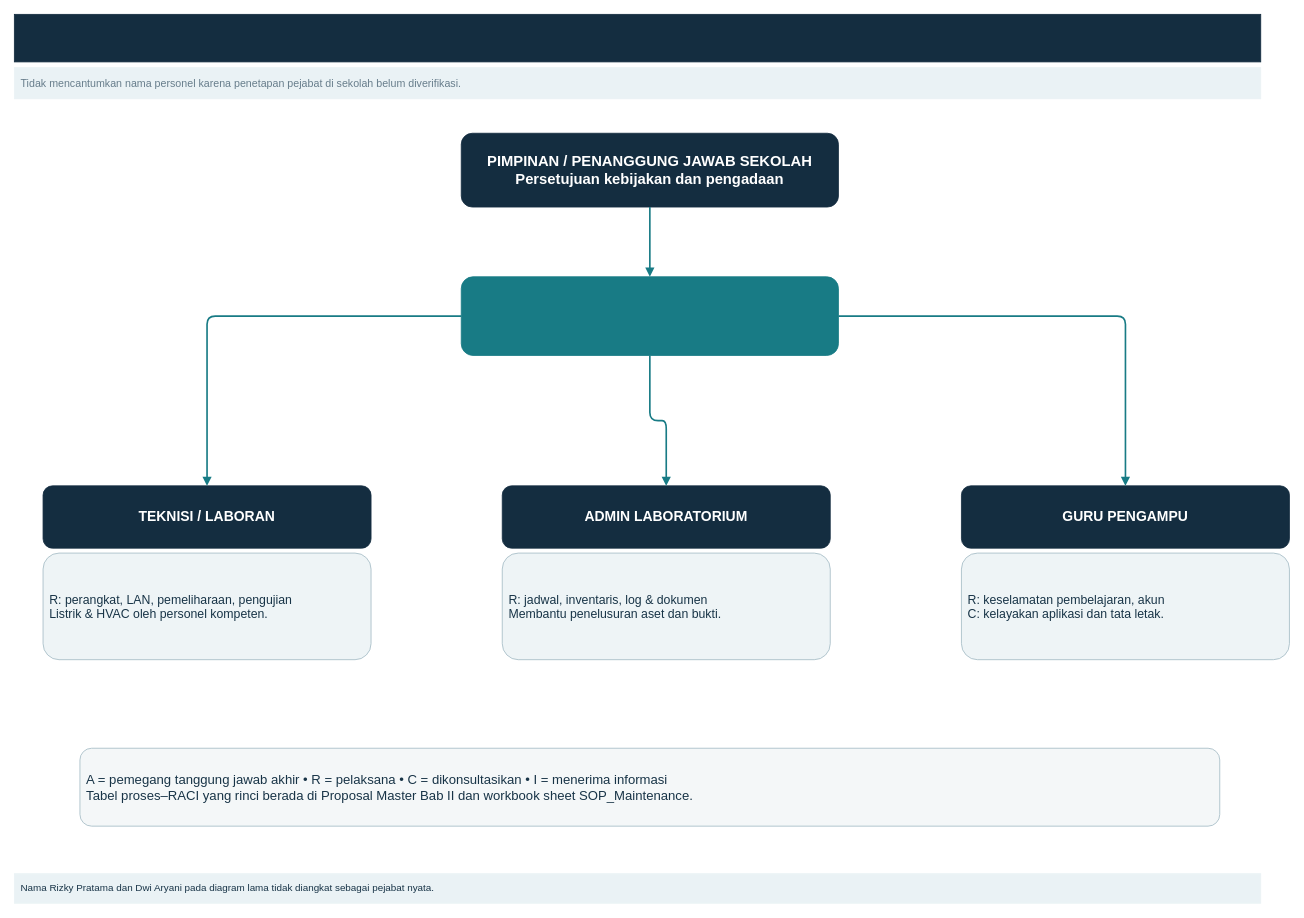
Image size: 1304x918. Some labels were removed from this diagram. The shapes that lost their labels are listed below. From the top down, each one's centre as x and y in pixels, then its label:
At (637,38): "03 STRUKTUR ORGANISASI & RACI".
At (649,315): "KEPALA LABORATORIUM A: SOP, anggaran, kesiapan dan insiden".
